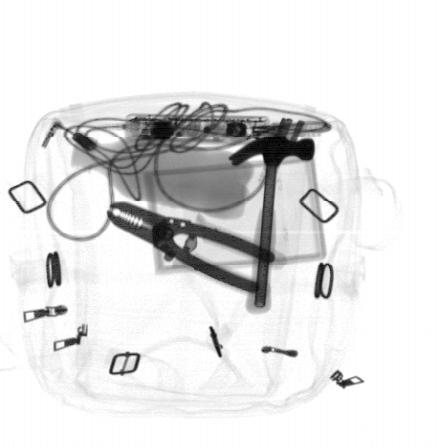Hammer: (227, 135, 316, 315)
Pliers: (108, 200, 290, 297)
